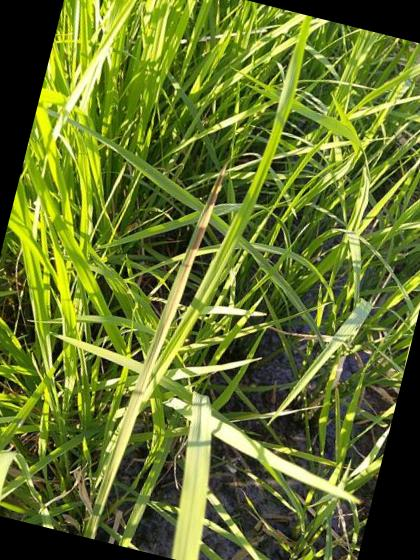Leaf Streak: (134, 169, 223, 395)
